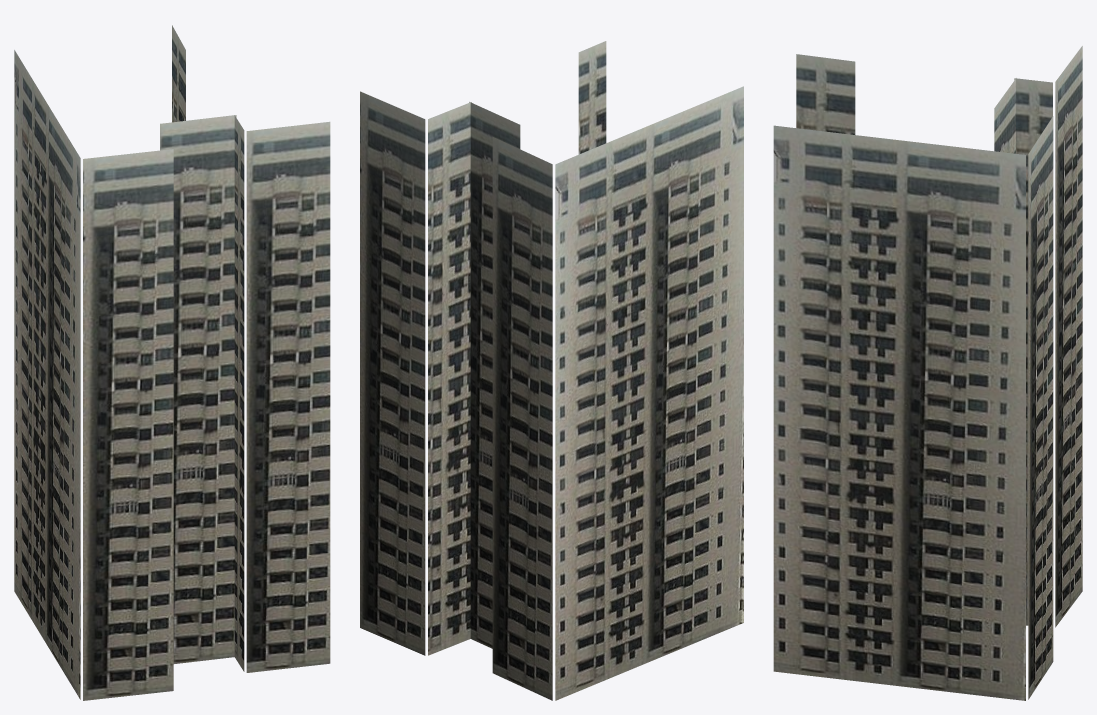
3 renders of one model, left to right at view 1: azimuth 30°, elevation 25°; view 2: azimuth 150°, elevation 25°; view 3: azimuth 270°, elevation 25°, orthographic.
Size of the model in its own units: 38.75 by 70.01 by 36.03.
Materials: 1 (1 with a texture image).
